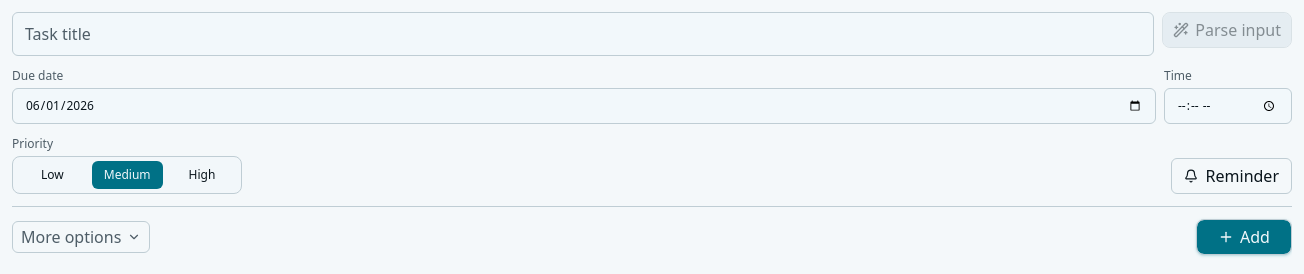
it: TaskComposer › disables submit while creating to prevent duplicate tasks
Type "Write tests" into the field labelled "Task title".
click(583, 34); type("Write tests")  # box [12,12,1154,56]
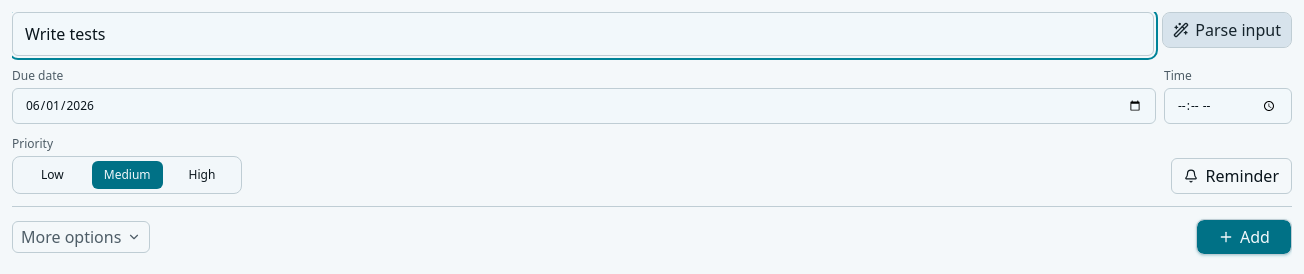
Click the button "Add".
click(1244, 237)  # box [1196,219,1292,255]
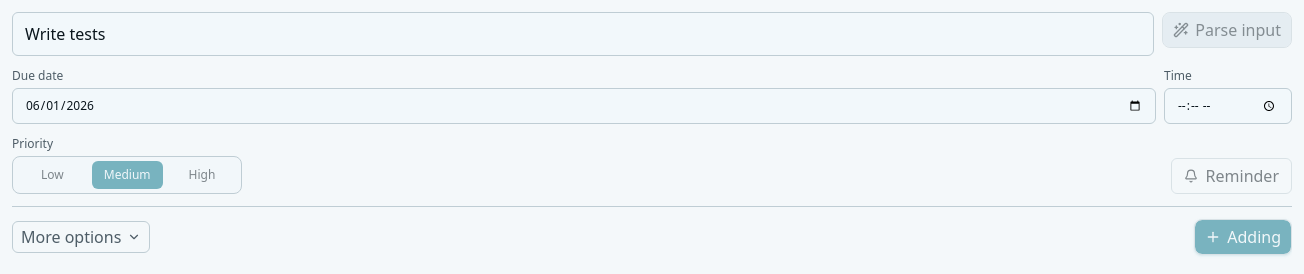
Click the button "Adding".
click(1243, 237)  # box [1194,219,1292,255]
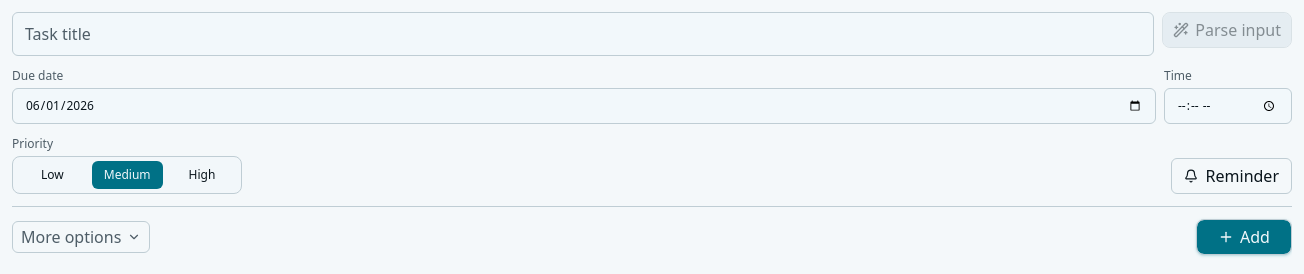
expect the button "Add" is enabled: met, box [1196,219,1292,255]
